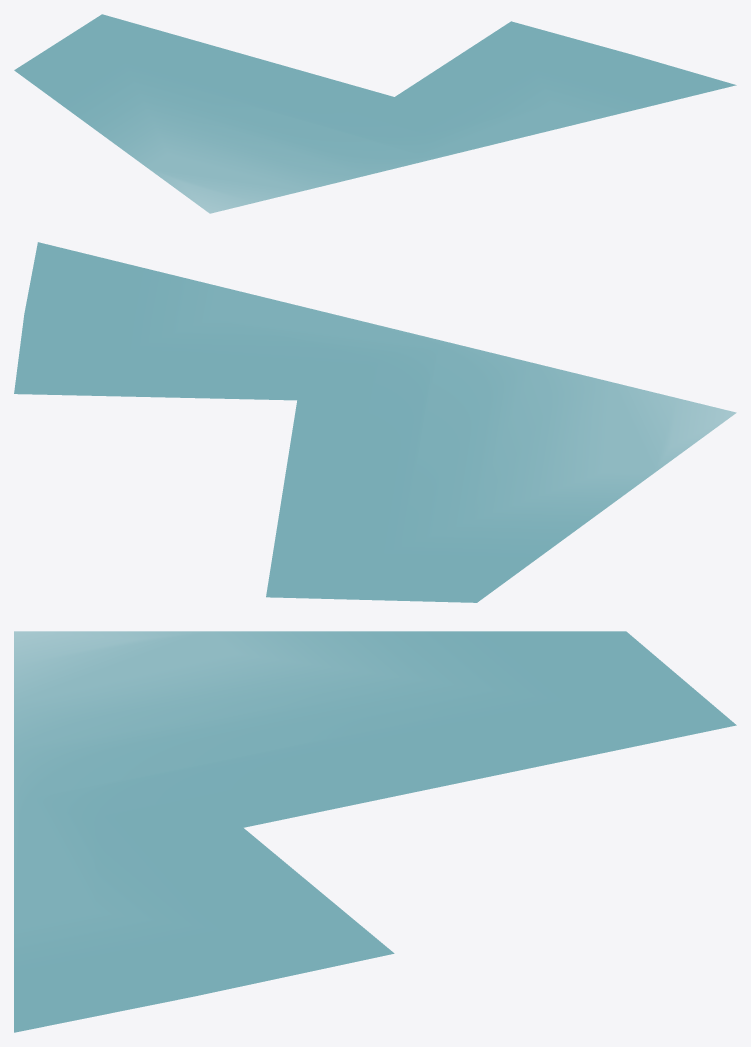
The picture shows the model from 3 angles, top to bottom: view 1: azimuth 30°, elevation 25°; view 2: azimuth 150°, elevation 25°; view 3: azimuth 270°, elevation 25°; orthographic projection. The views are drawn at different scales.
Parts seen in each view (by area): view 1: city; view 2: city; view 3: city.
Part boxes in pixels (x1=…): city: x1=14, y1=14, x2=736, y2=213; city: x1=14, y1=242, x2=736, y2=602; city: x1=14, y1=631, x2=736, y2=1032.
Bounding box in the file's own units: 383 × 0 × 291.
